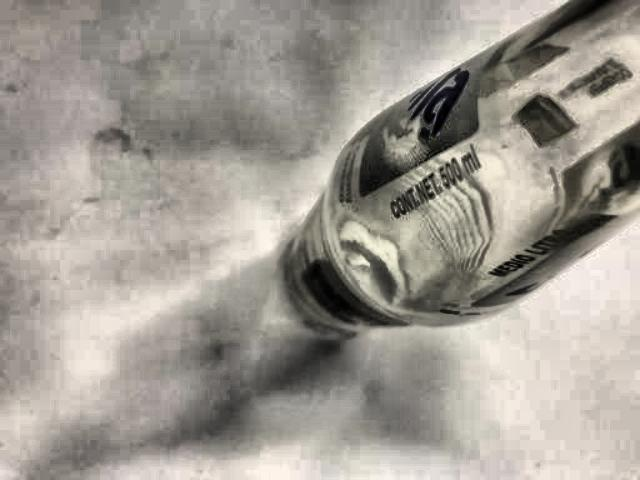Bottles: (266, 0, 640, 372)
